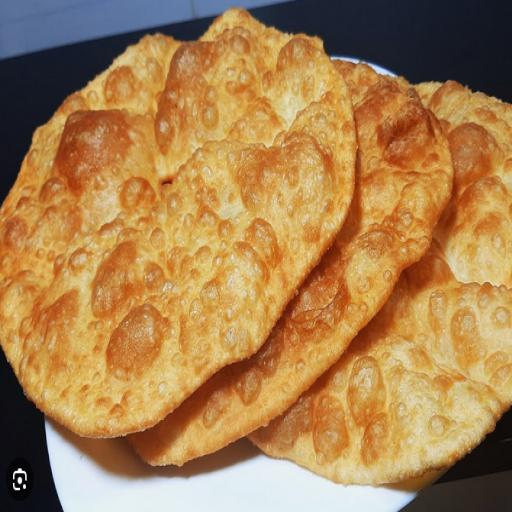bolleria: (0, 28, 356, 436), (129, 61, 453, 464), (250, 82, 511, 484)
